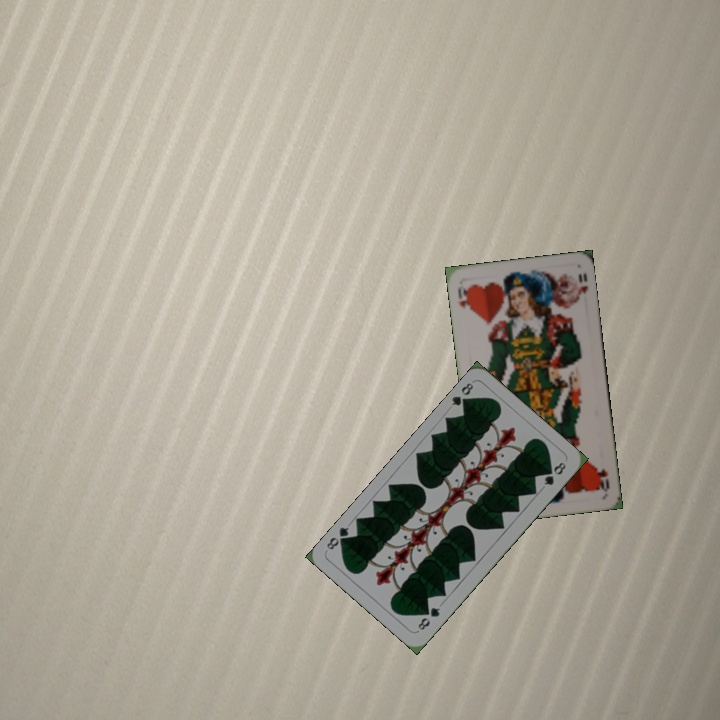G8: (447, 379, 476, 410), (414, 603, 443, 633)
HO: (453, 282, 473, 313), (593, 462, 612, 494)
